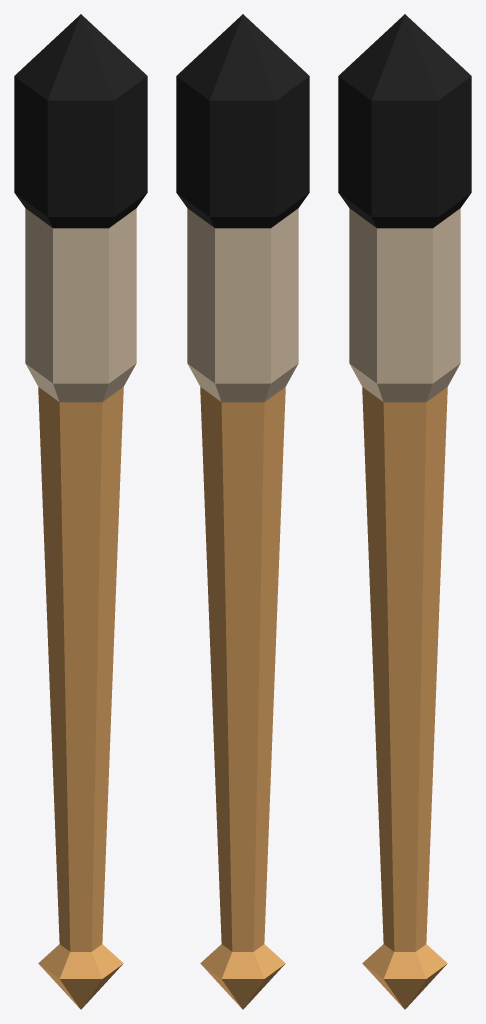
File: Torch 01.fbx
3 views of the same model, side by side, from view 1: azimuth 30°, elevation 25°; view 2: azimuth 150°, elevation 25°; view 3: azimuth 330°, elevation 25° (orthographic).
Visible parts, largest first — view 1: Torch 01; view 2: Torch 01; view 3: Torch 01.
Boxes of the visible parts, <box> form: Torch 01: <box>14,14,147,1009</box>; Torch 01: <box>176,14,309,1009</box>; Torch 01: <box>338,14,471,1009</box>.
Size of the model in its own units: 8.11 by 76.98 by 9.36.
